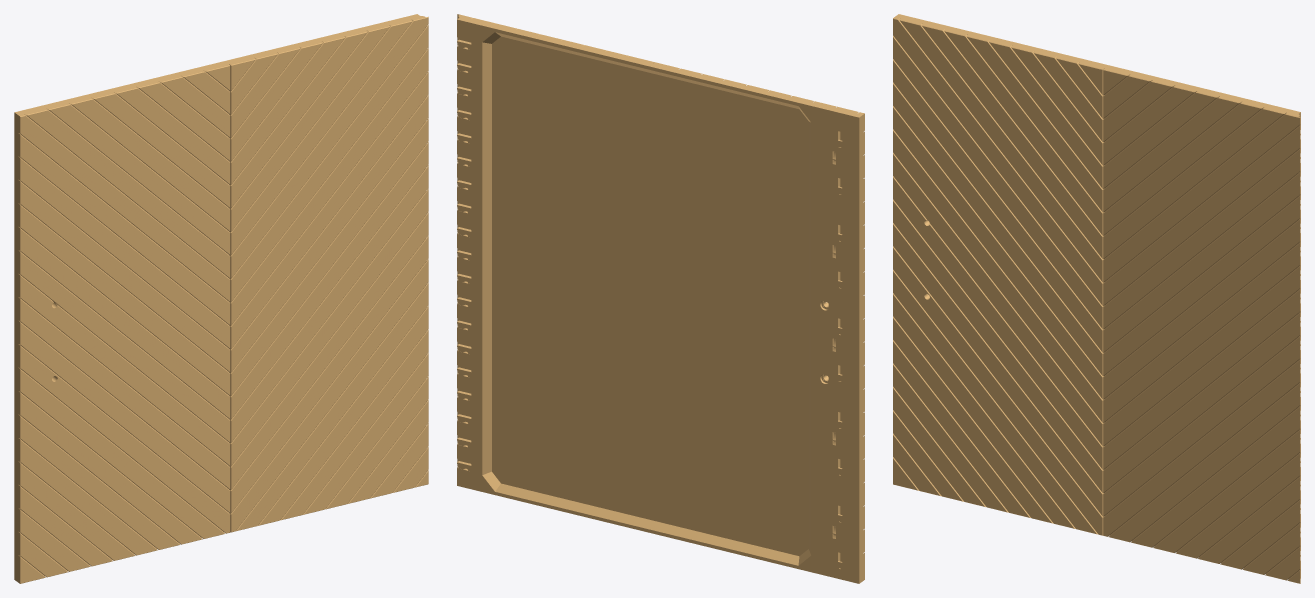
Rendered from Door_Chevron_3W-5H_RH.lib.glb.
The picture shows the model from 3 angles, left to right: view 1: azimuth 30°, elevation 25°; view 2: azimuth 150°, elevation 25°; view 3: azimuth 330°, elevation 25°; orthographic projection.
Parts seen in each view (by area): view 1: Door_Chevron_3W-5H_RH; view 2: Door_Chevron_3W-5H_RH; view 3: Door_Chevron_3W-5H_RH.
Part boxes in pixels (x1,y1,x2,y2): Door_Chevron_3W-5H_RH: (14, 14, 428, 583); Door_Chevron_3W-5H_RH: (457, 14, 864, 583); Door_Chevron_3W-5H_RH: (893, 14, 1300, 583).
Bounding box in the file's own units: 255 × 279 × 6.51.
